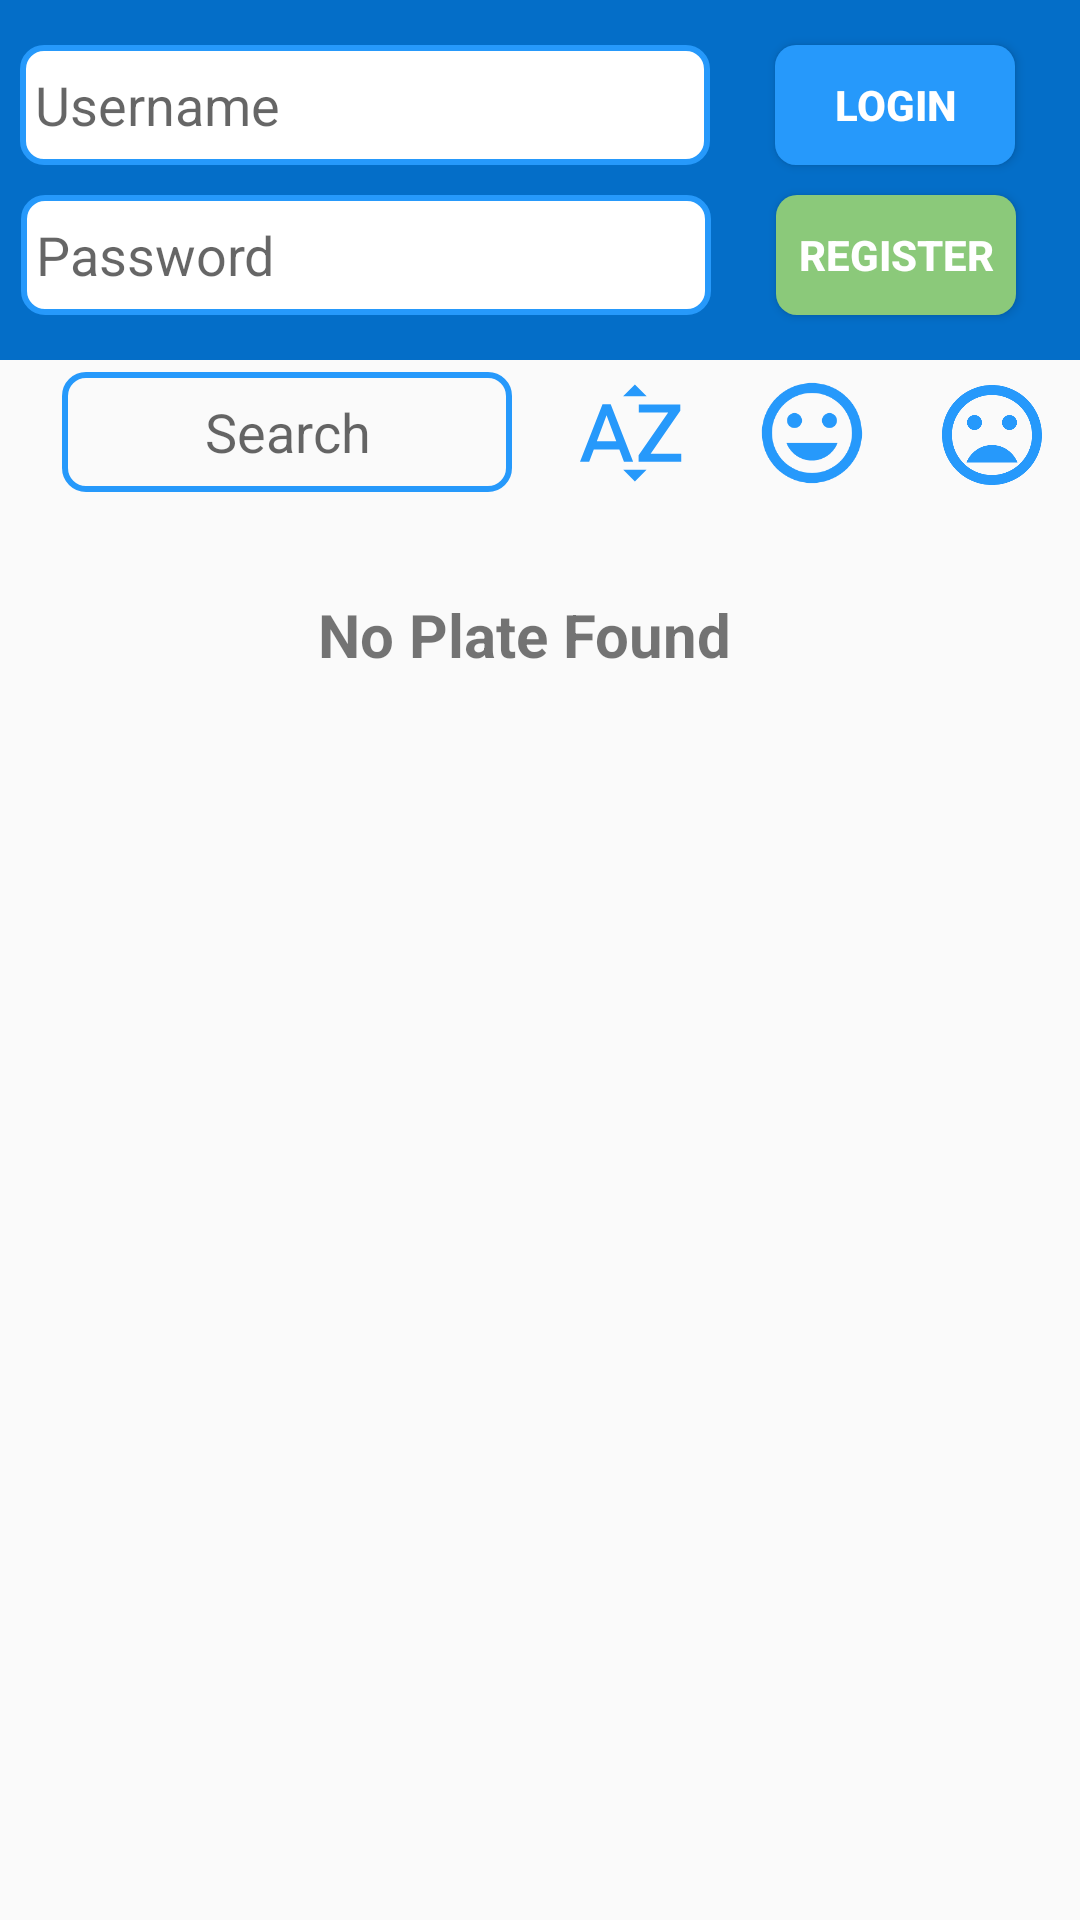

Point at icon controls on the screen. Image size 1080 × 1920, points as [x,y].
mood: [811,433]
mood bad: [992,435]
sort by: [631,433]
